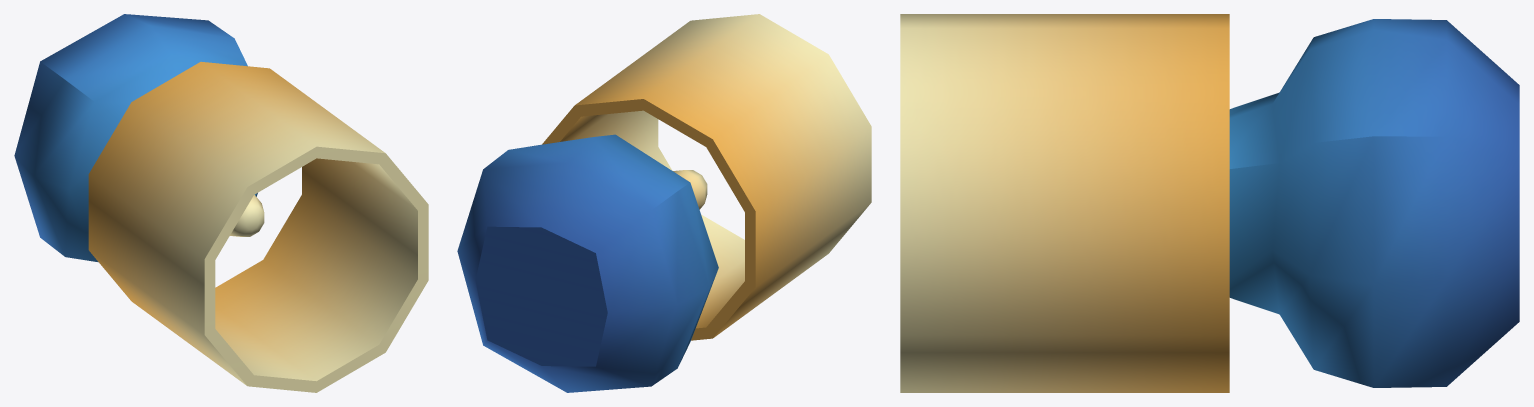
The model's file is TableLamp.fbx.
3 renders of one model, left to right at view 1: azimuth 30°, elevation 25°; view 2: azimuth 150°, elevation 25°; view 3: azimuth 270°, elevation 25°, orthographic. The views are drawn at different scales.
Visible parts, largest first — view 1: TableLamp; view 2: TableLamp; view 3: TableLamp.
Boxes of the visible parts, x1,y1,x2,y2 form: TableLamp: (14,14,428,392); TableLamp: (457,14,871,392); TableLamp: (900,14,1519,392).
Size of the model in its own units: 39.64 by 40 by 64.16.
